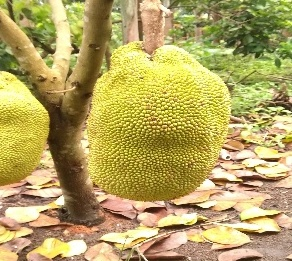Mit: (87, 42, 232, 202)
